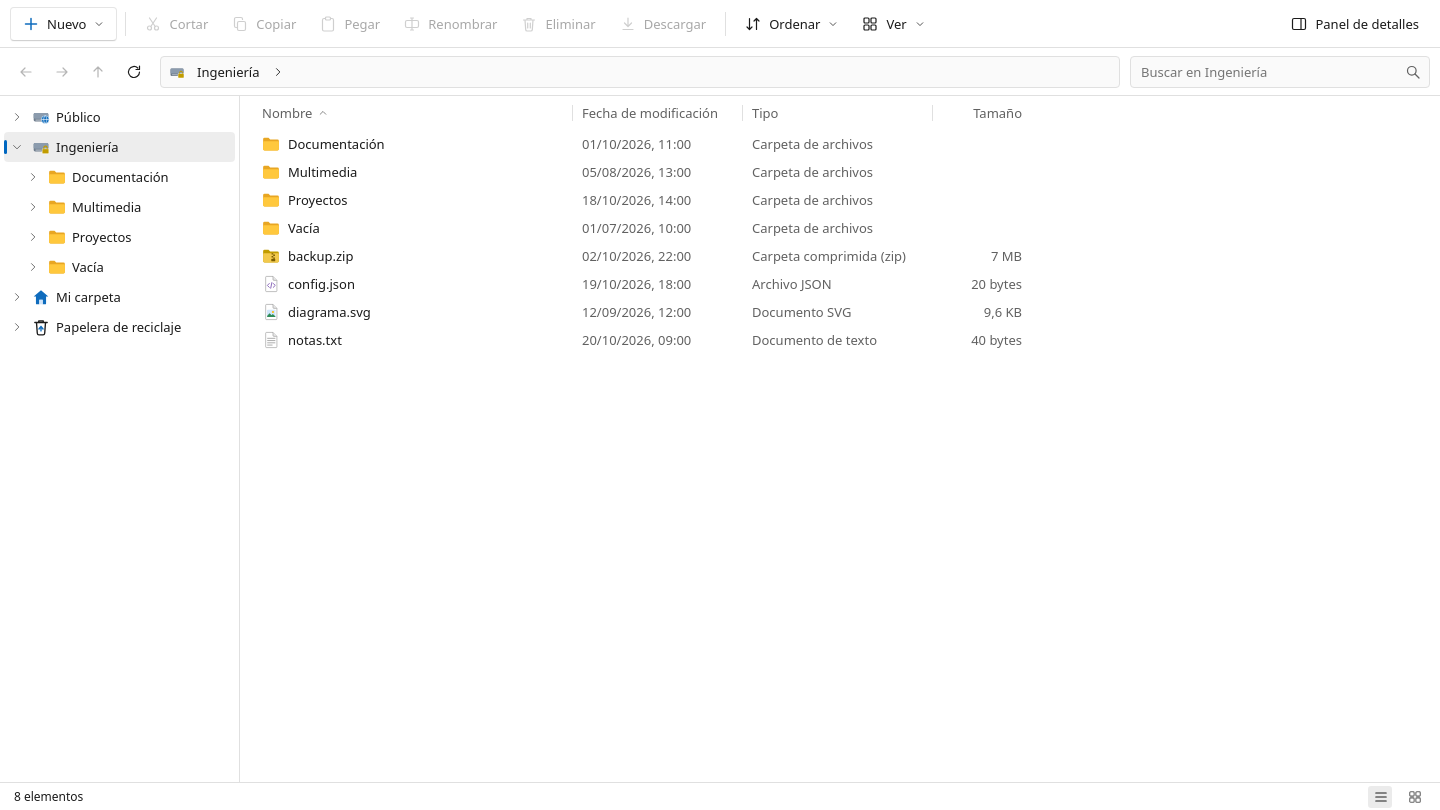
Scenario: Explorer: clipboard and conflicts › copy + paste creates the item in the destination
This screenshot has width=1440, height=810.
Click the option "notas.txt". click: point(642, 340)
box: [262,331,1022,349]
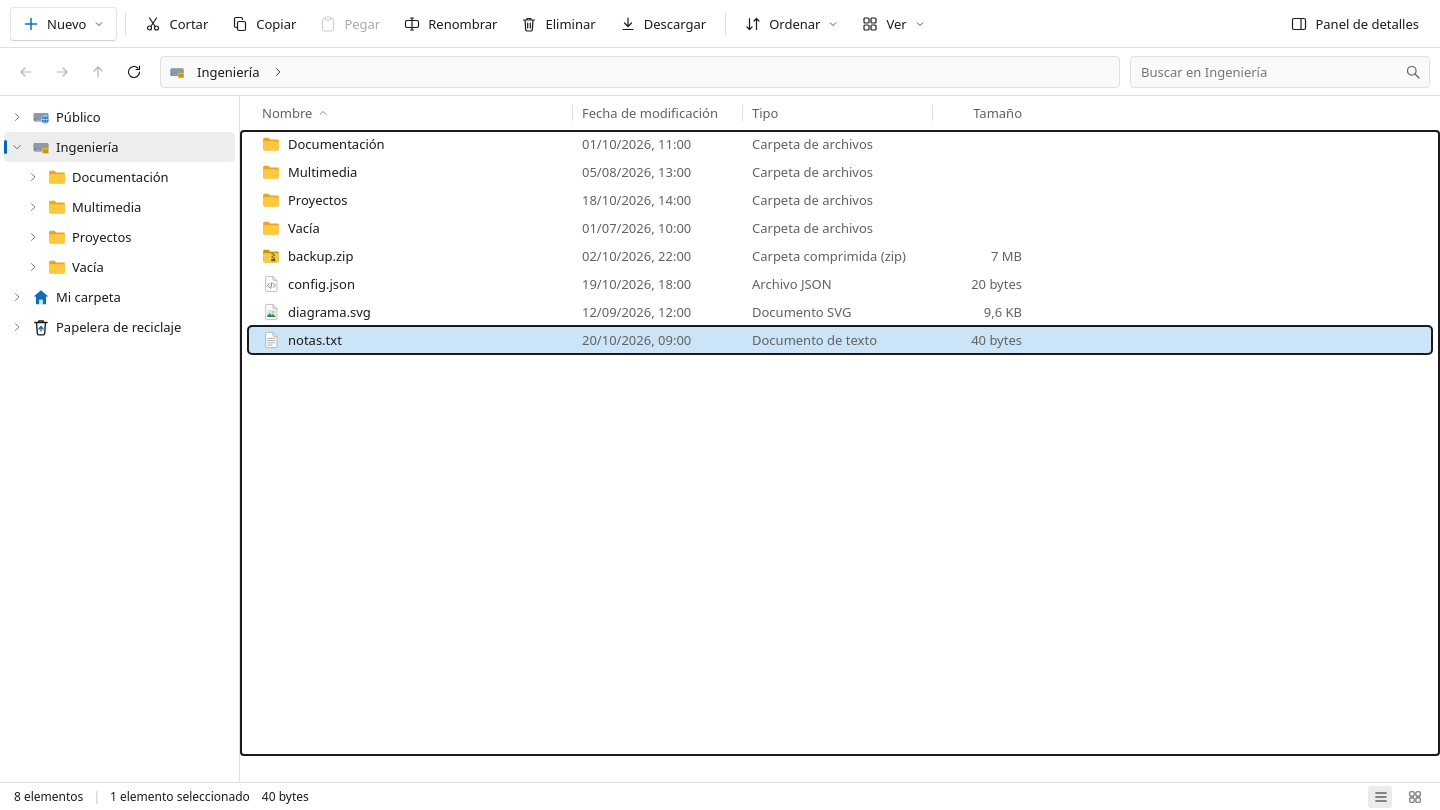
Type keys "{Control>}c{/Control}"
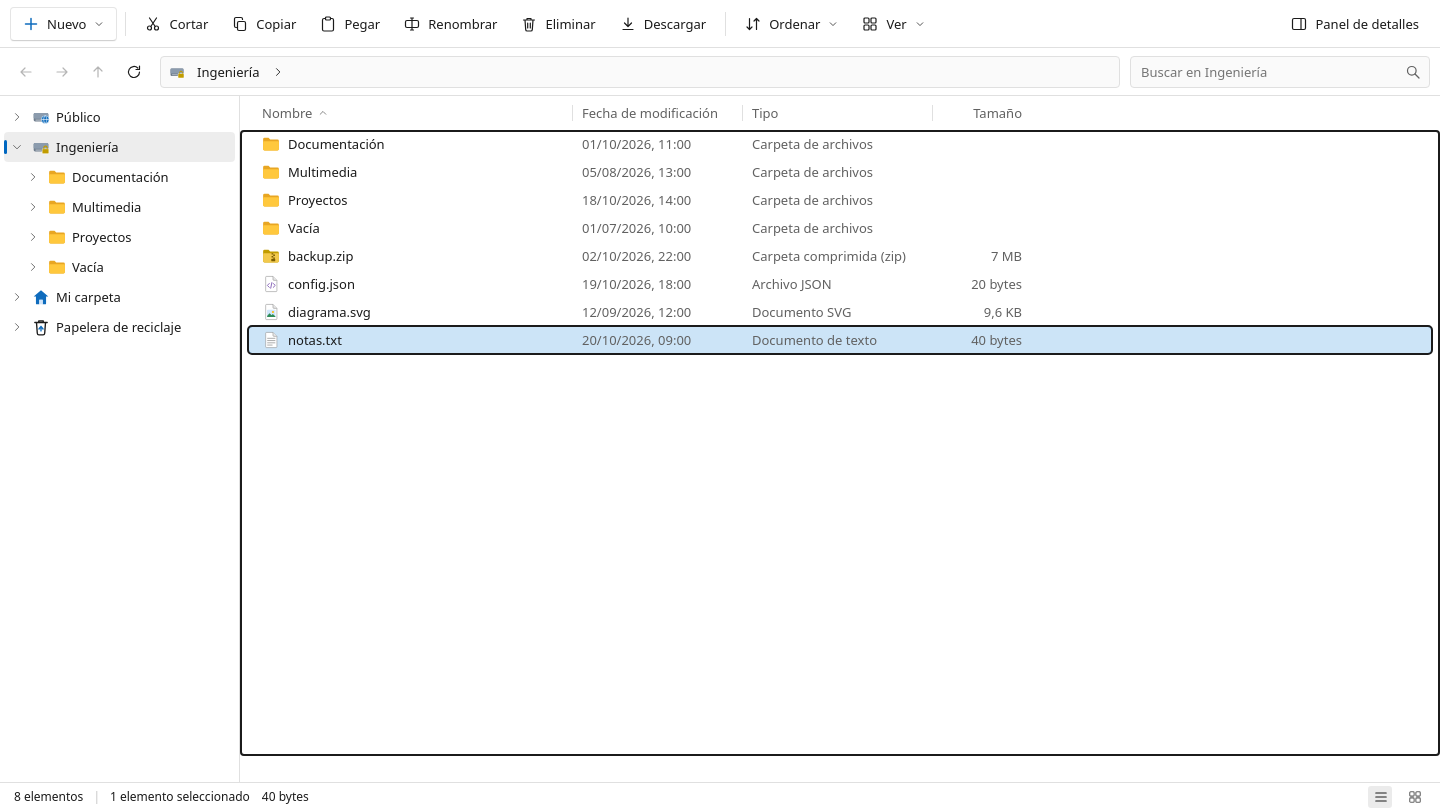
Double-click the option "Documentación" at point(336, 144), box [262,135,873,153]
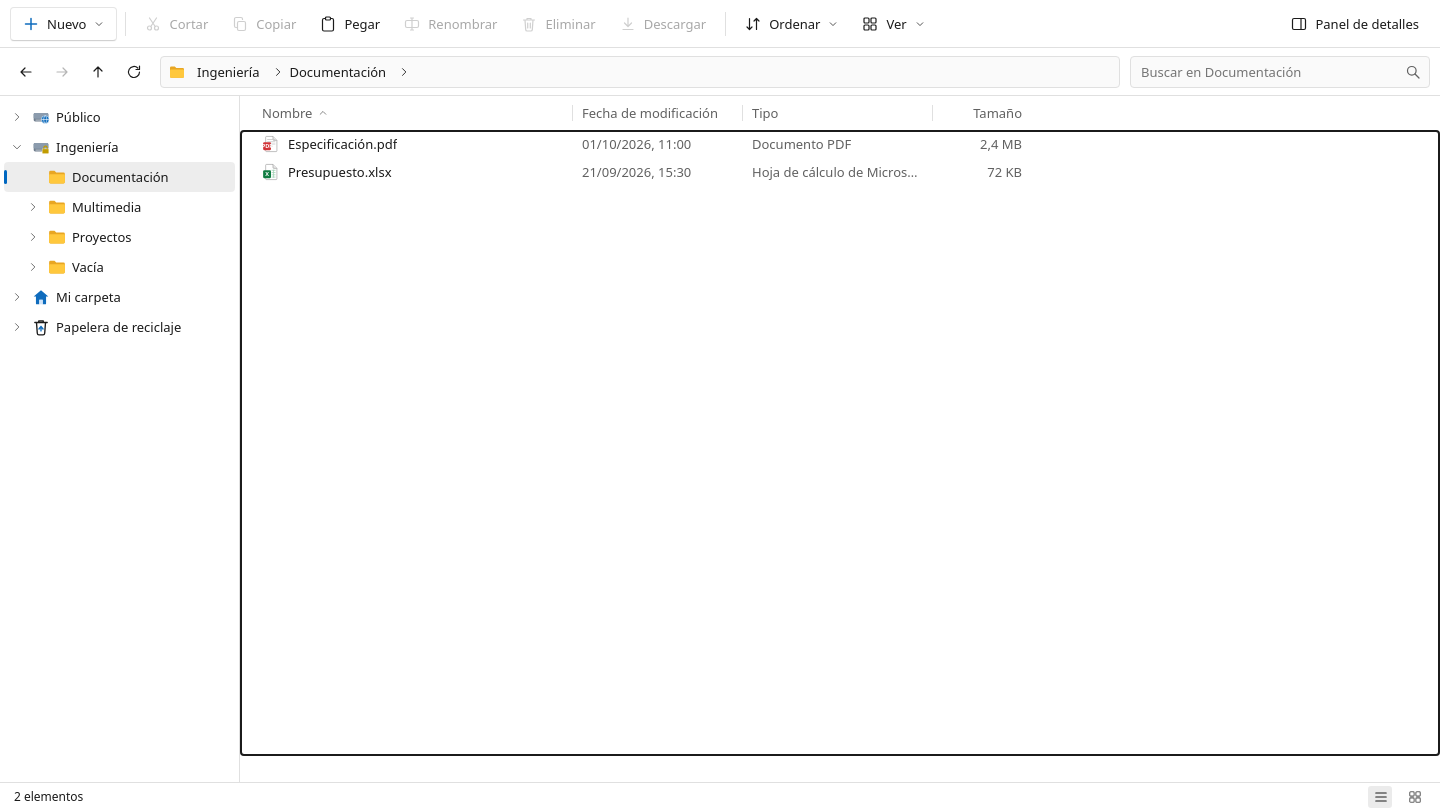
Type keys "{Control>}v{/Control}"
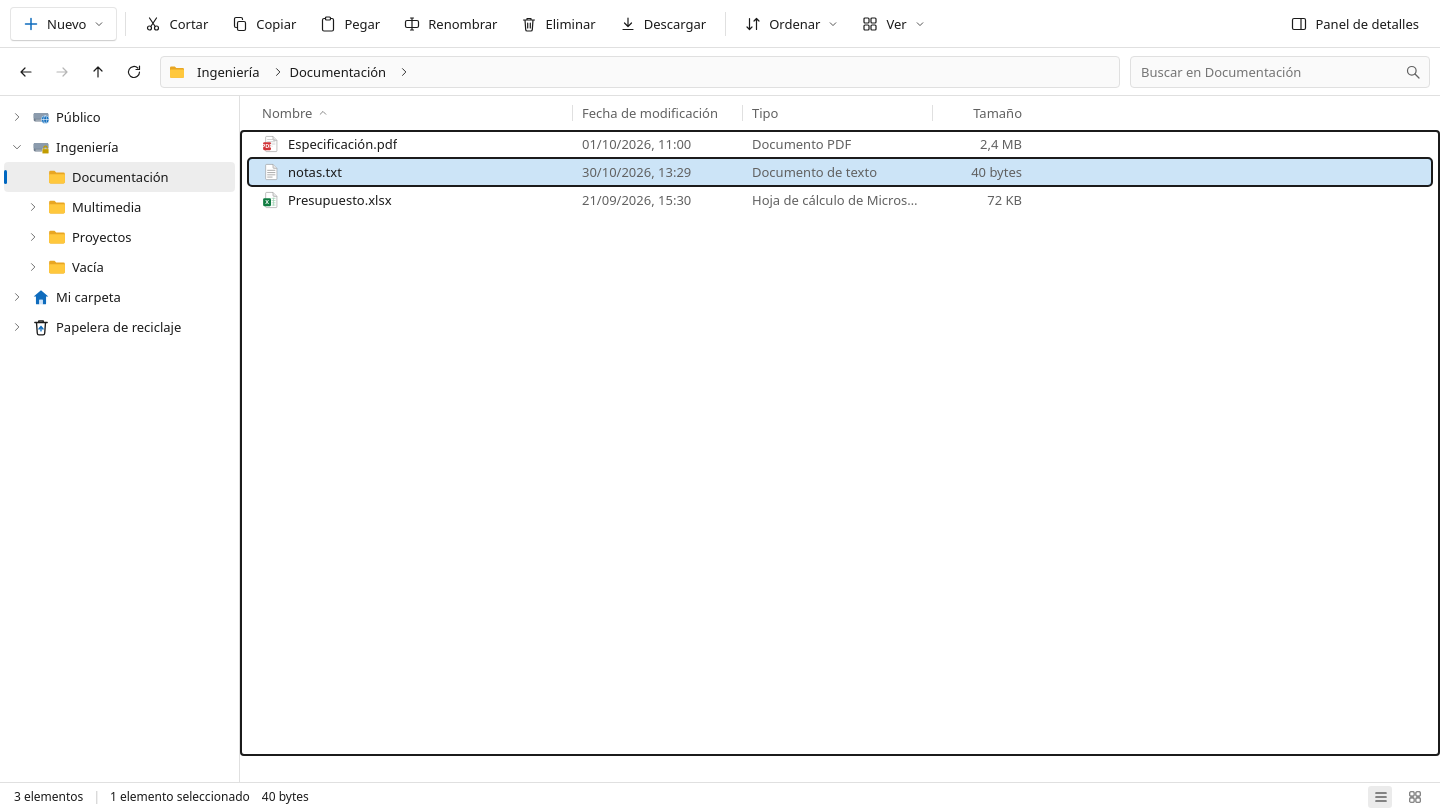
Click the button named "Atrás". click: point(26, 72)
box: [10,56,42,88]
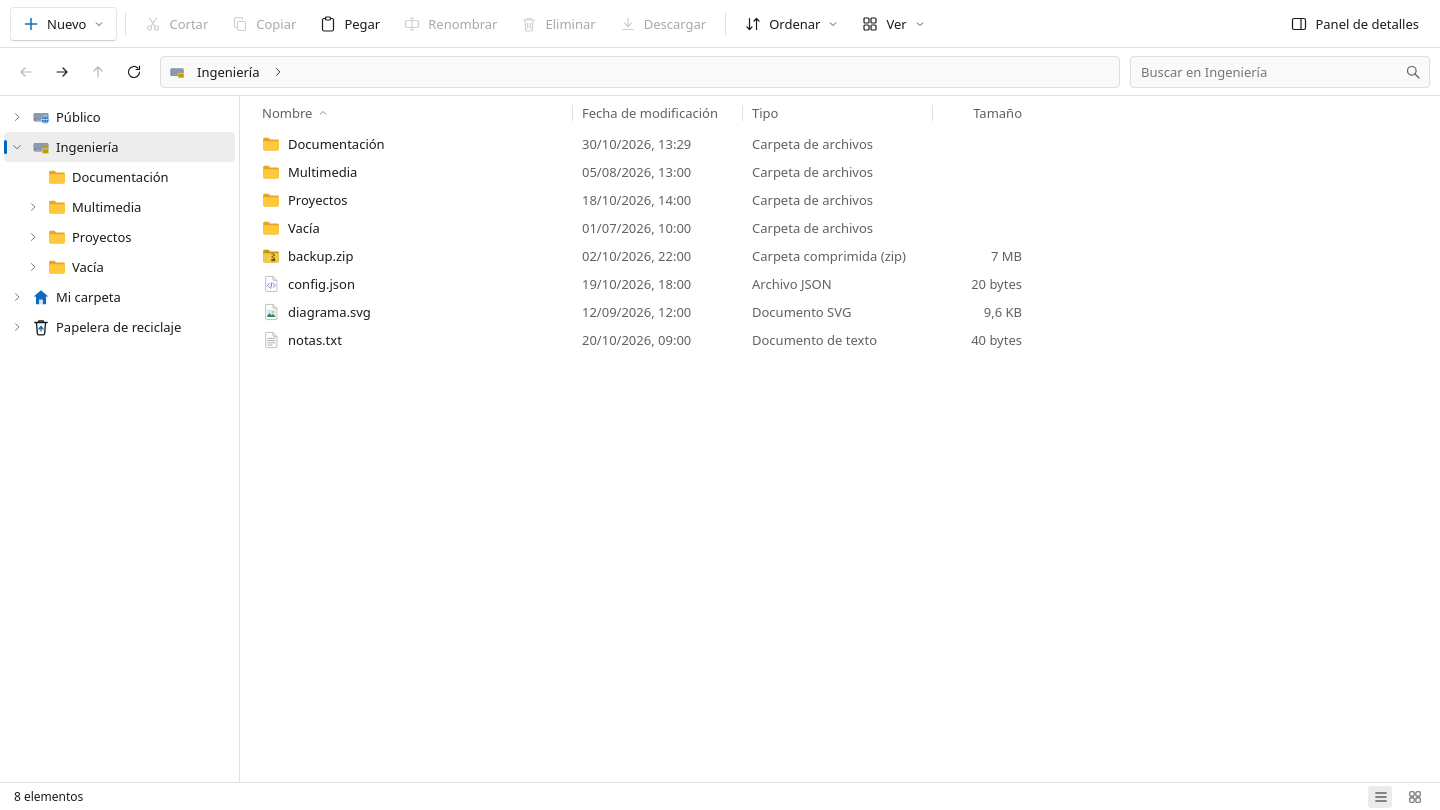
Result: the option "notas.txt" is shown at [262,331,1022,349]
